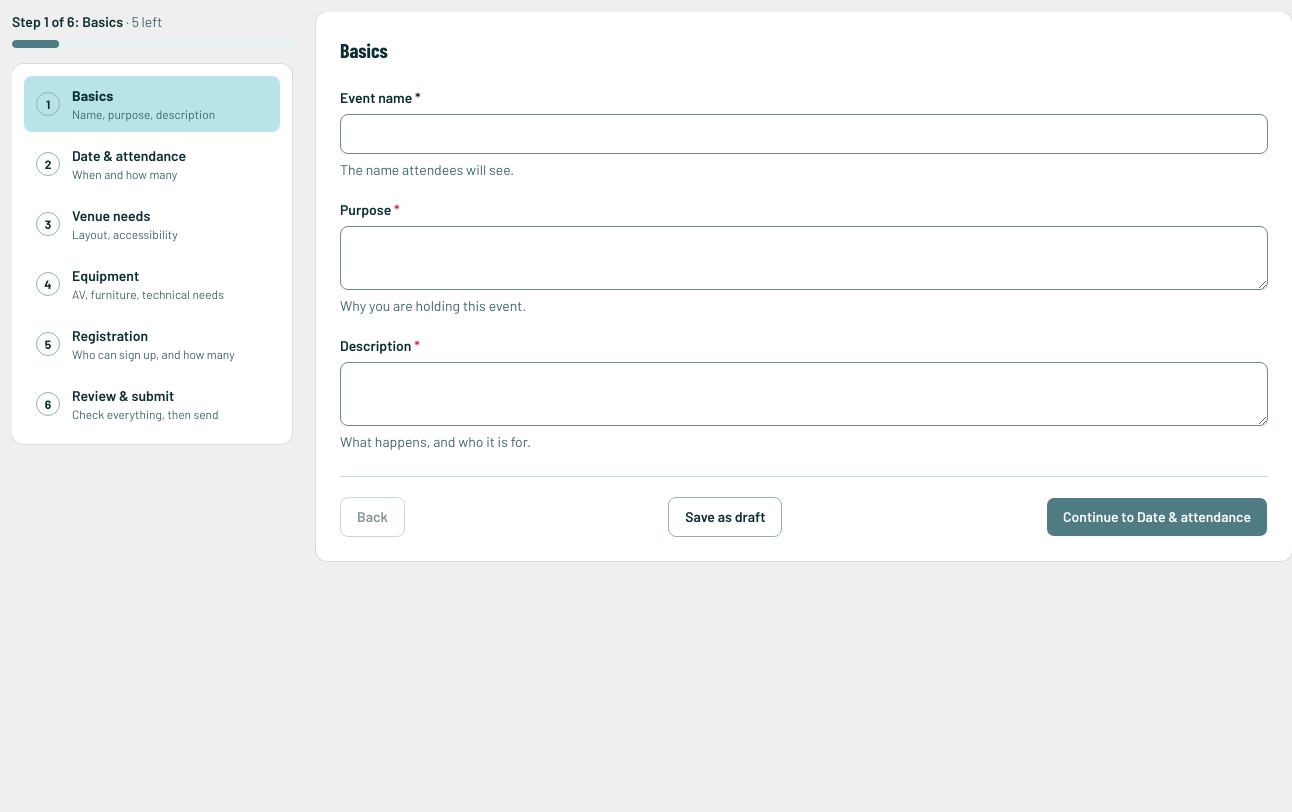
Test: SCRUM-123/AC1 progress bar › shows the current step and the steps left, and moves on Continue
The image size is (1292, 812).
Expected: the text "Step 1 of 6: Basics · 5 left" is shown, 12,13 -> 162,30
Expected: the progress indicator named "Request progress" is shown, 12,40 -> 292,48
In the field labelled "Event name *": (804, 134) 340,114 -> 1268,154, type "Tech Summit"
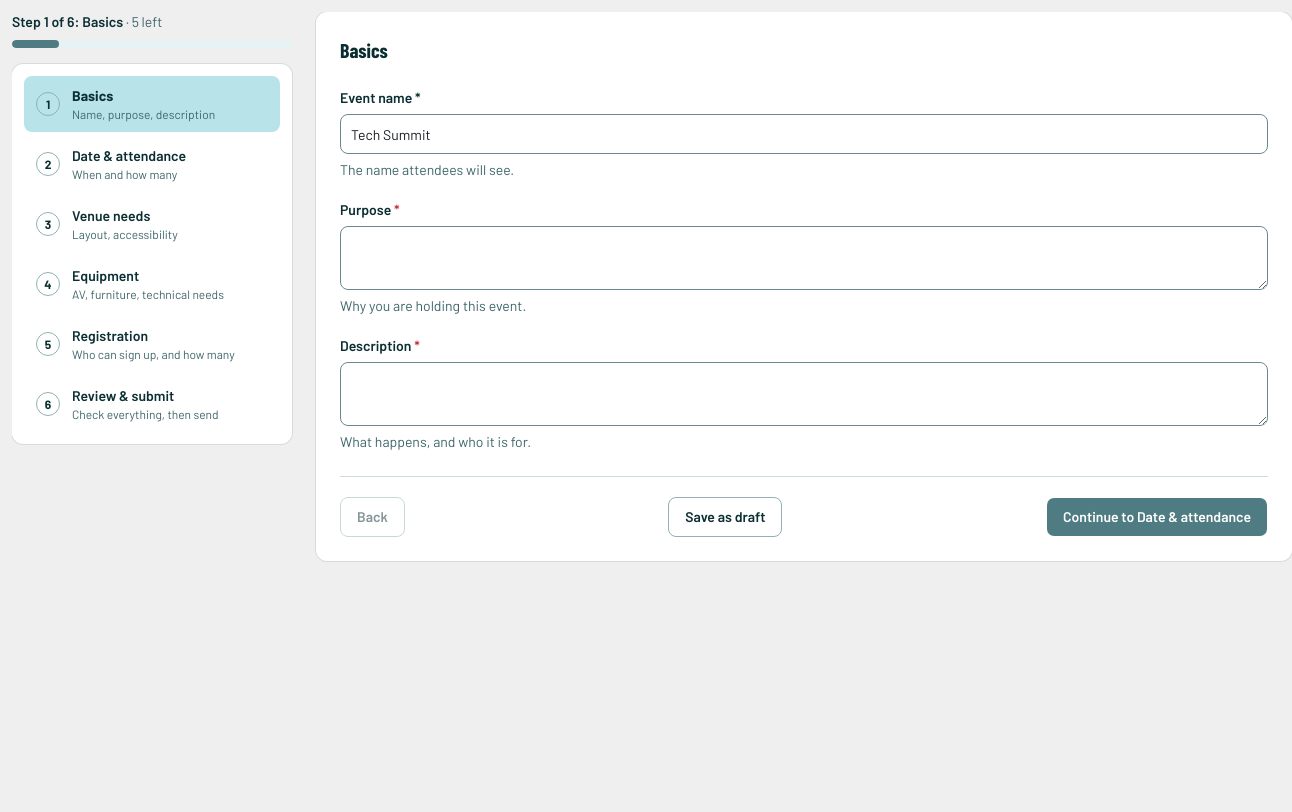
In the text box labelled "Purpose *": (804, 258) 340,226 -> 1268,290, type "Showcase"
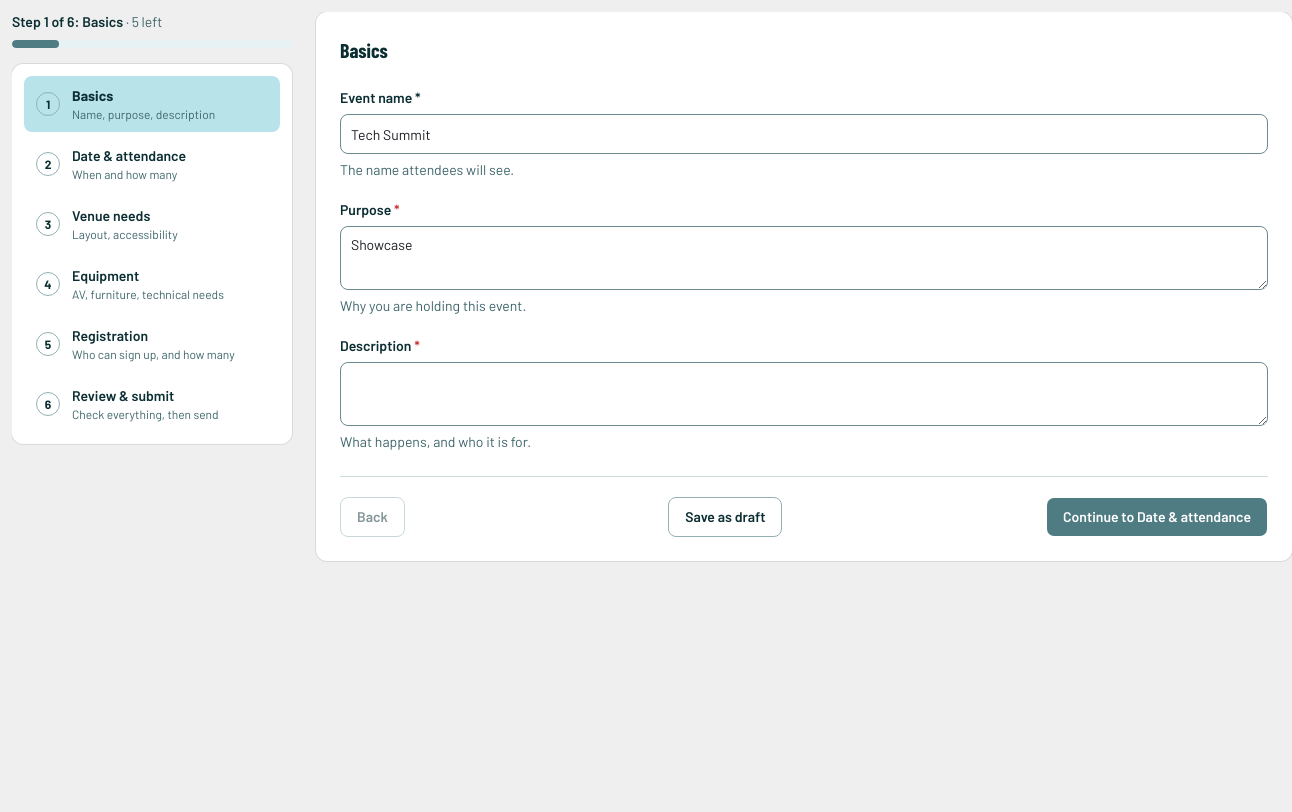
In the text box labelled "Description *": (804, 394) 340,362 -> 1268,426, type "A day of demos"
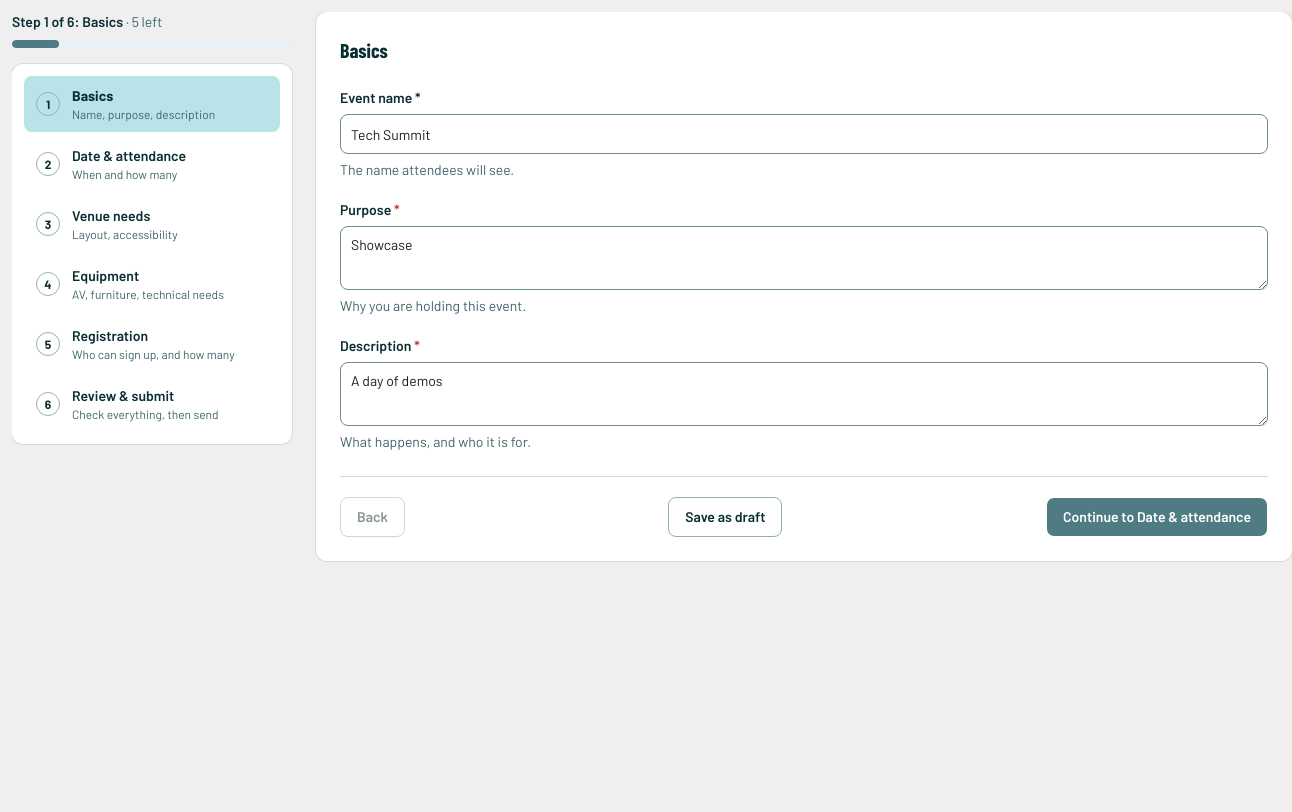
Click the button "Continue to Date & attendance": (1157, 517) 1046,497 -> 1268,537
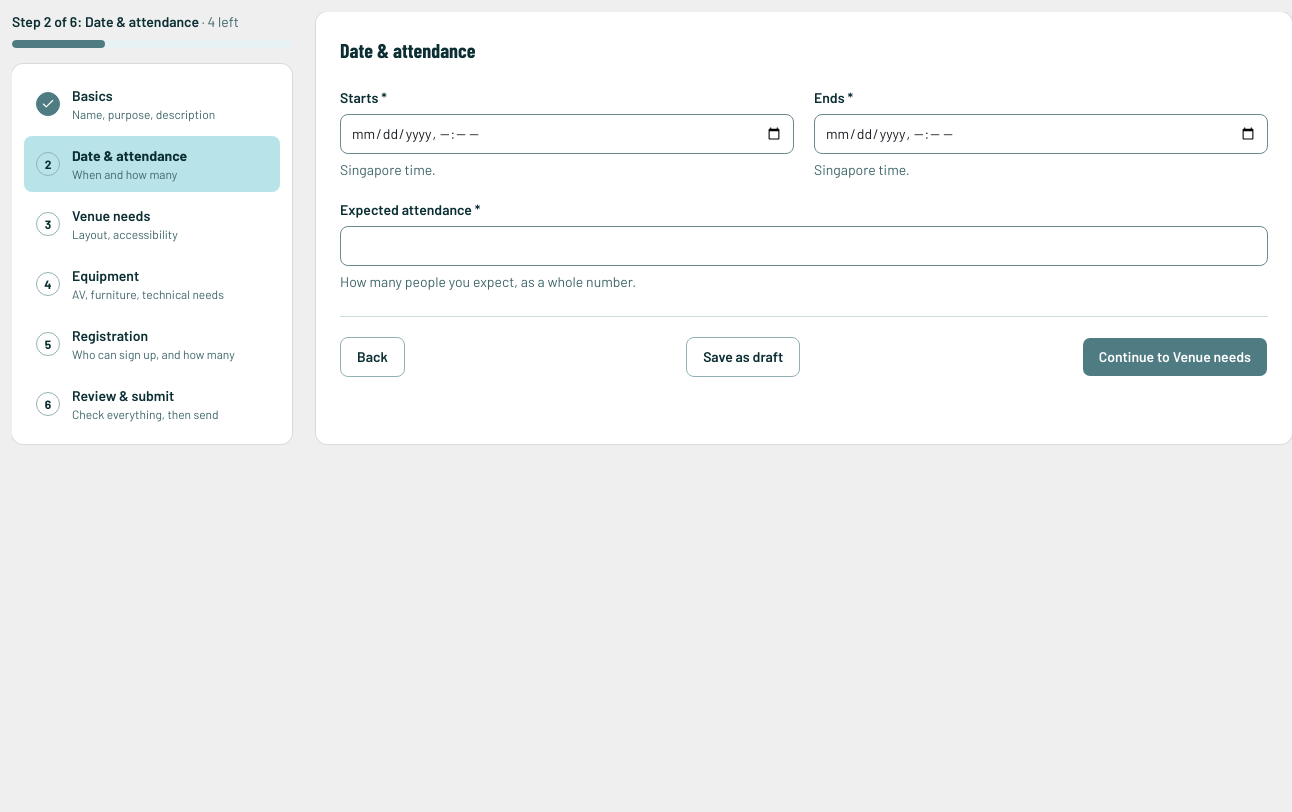
Expected: the text "Step 2 of 6: Date & attendance · 4 left" is shown, 12,13 -> 239,30
